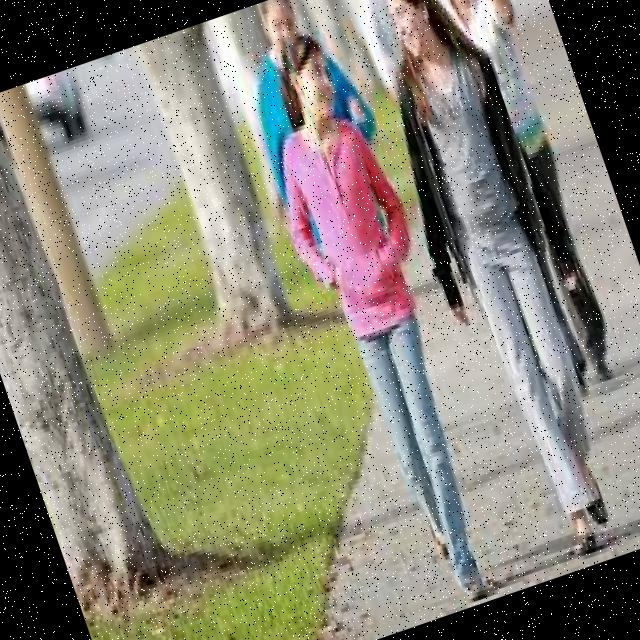Person: (231, 26, 529, 612), (335, 0, 640, 570), (413, 0, 637, 394), (220, 0, 393, 219)
